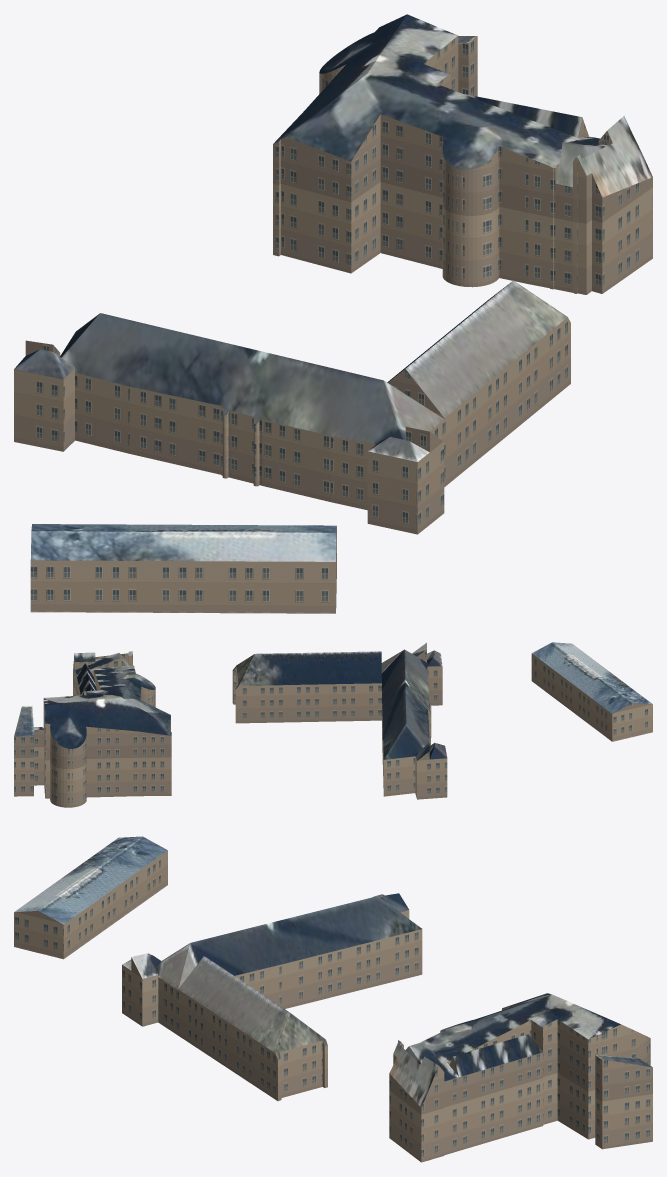
File: Schloss_Rheydt.glb
3 views of the same model, one above another, from view 1: azimuth 30°, elevation 25°; view 2: azimuth 150°, elevation 25°; view 3: azimuth 270°, elevation 25° (orthographic). The views are drawn at different scales.
Parts seen in each view (by area): view 1: Schloss_Rheydt; view 2: Schloss_Rheydt; view 3: Schloss_Rheydt.
Boxes of the visible parts, x1=… form: Schloss_Rheydt: x1=14, y1=14, x2=652, y2=613; Schloss_Rheydt: x1=14, y1=642, x2=652, y2=807; Schloss_Rheydt: x1=14, y1=836, x2=652, y2=1162.
Size of the model in its own units: 117 by 21.11 by 114.
Materials: 3 (2 with a texture image).
